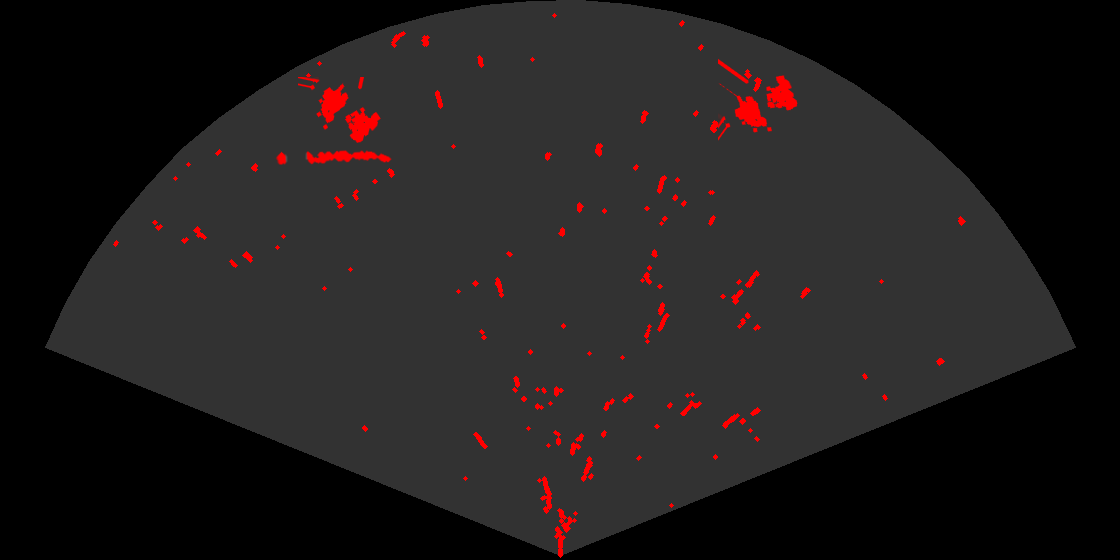cage: (718, 57, 799, 142), (298, 77, 382, 144)
chain: (274, 149, 393, 166)
